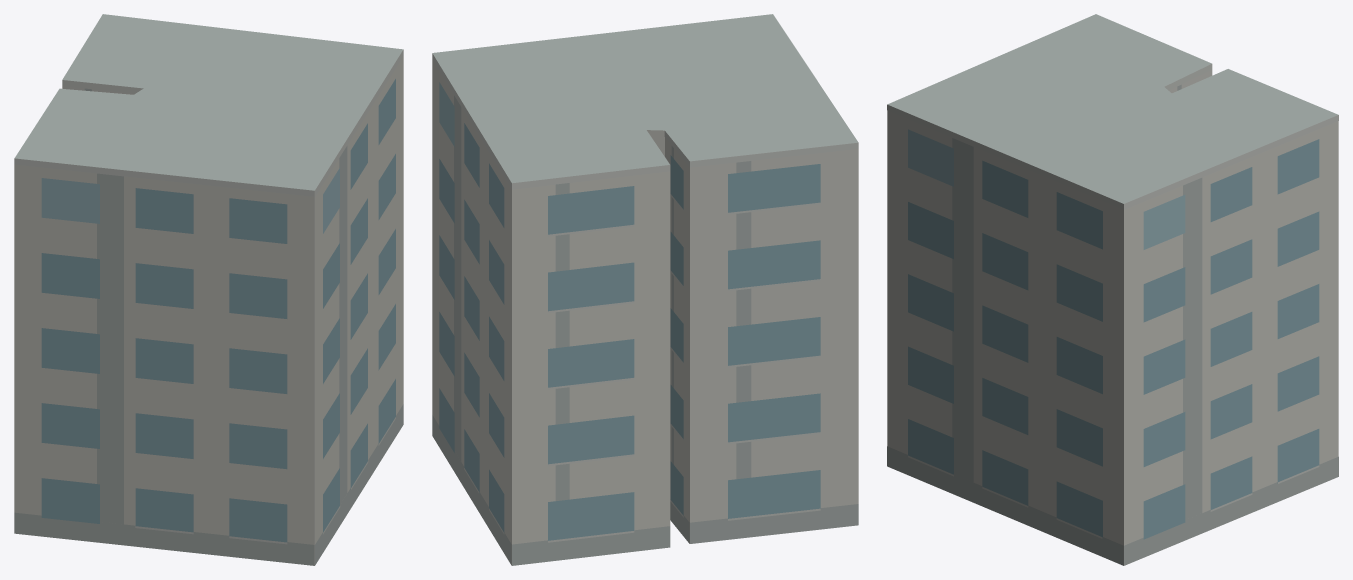
File: survey-upis-32999248.glb
3 renders of one model, left to right at view 1: azimuth 30°, elevation 25°; view 2: azimuth 150°, elevation 25°; view 3: azimuth 270°, elevation 25°, orthographic. The views are drawn at different scales.
Visible parts, largest first — view 1: survey-upis-32999248.tmp; view 2: survey-upis-32999248.tmp; view 3: survey-upis-32999248.tmp.
Part boxes in pixels (x1,y1,x2,y2): survey-upis-32999248.tmp: (14,14,403,565); survey-upis-32999248.tmp: (432,14,858,565); survey-upis-32999248.tmp: (887,14,1338,565).
Bounding box in the file's own units: 16.5 × 14.65 × 16.57.
